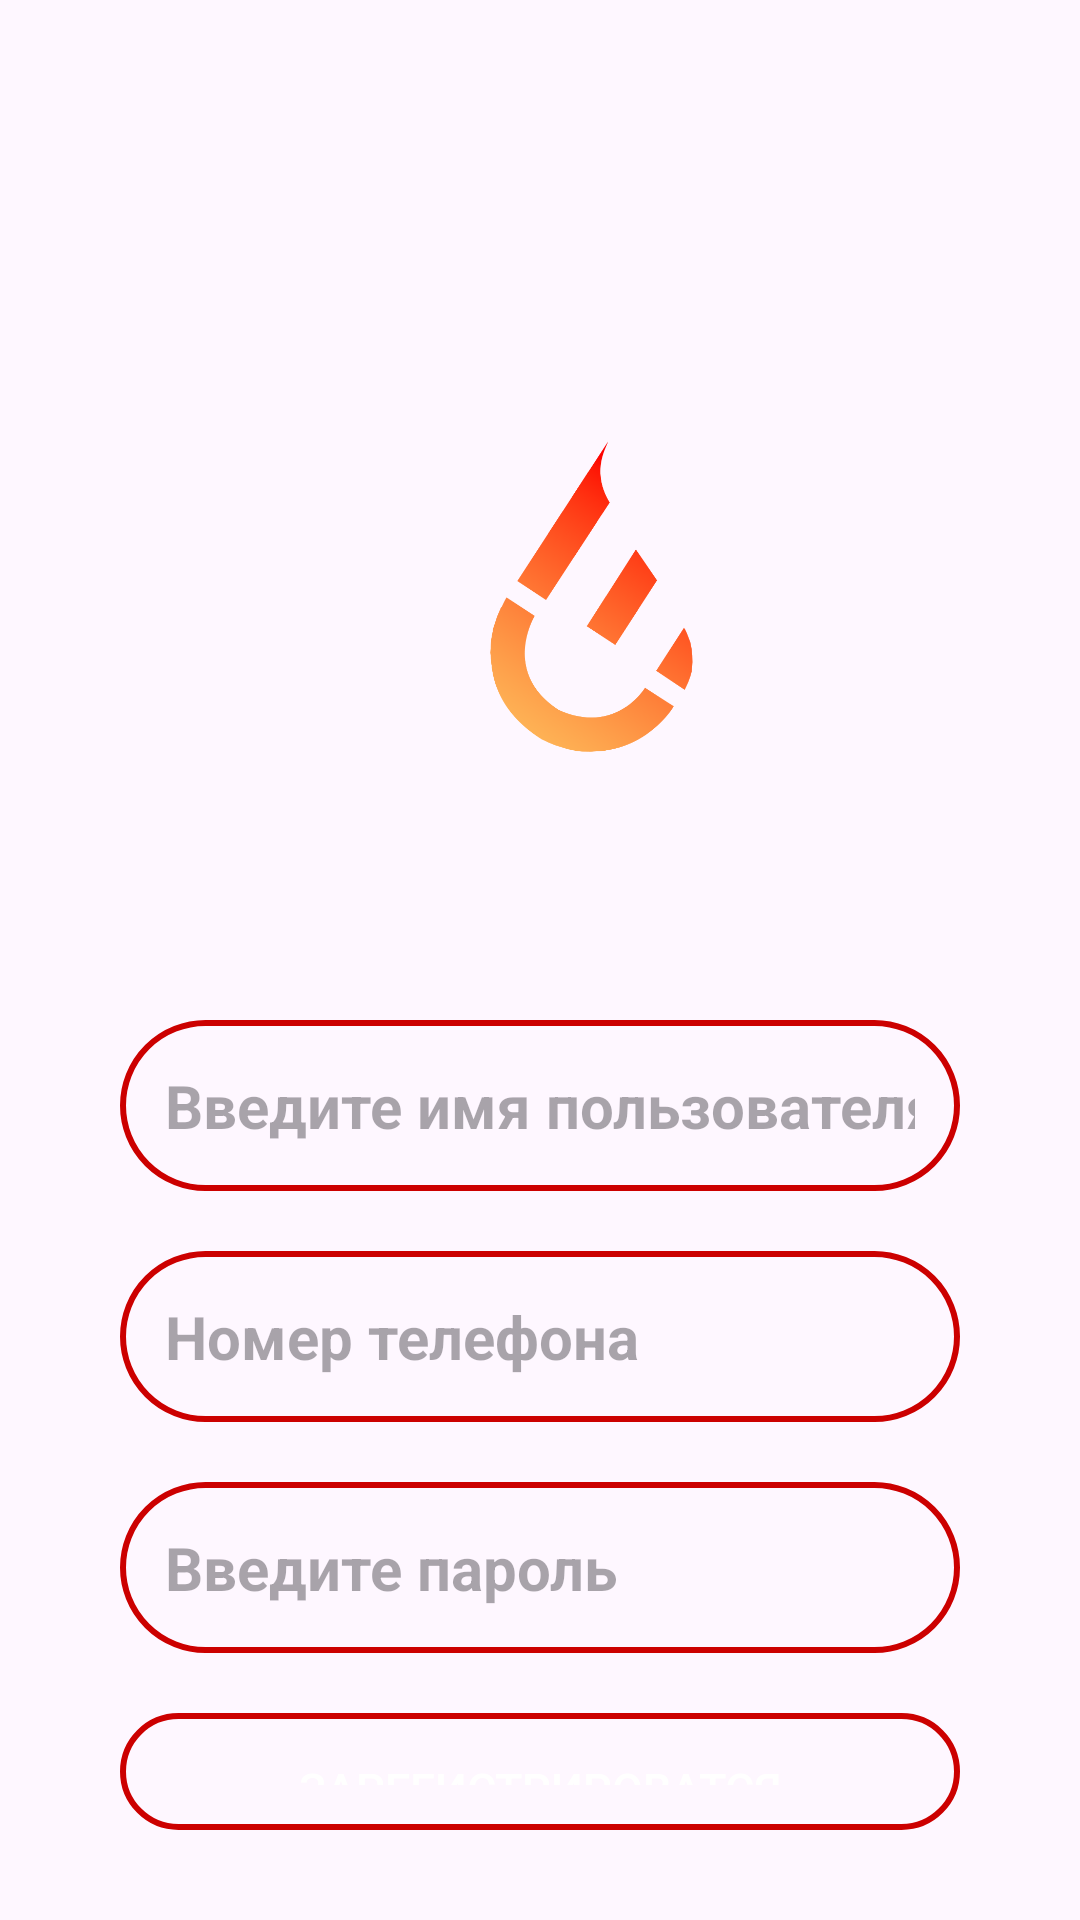

Locate icon controls on the screen. Image size 1080*1920, boxes as (x1, y1, x2, y2).
login picture: (490, 442, 693, 752)
